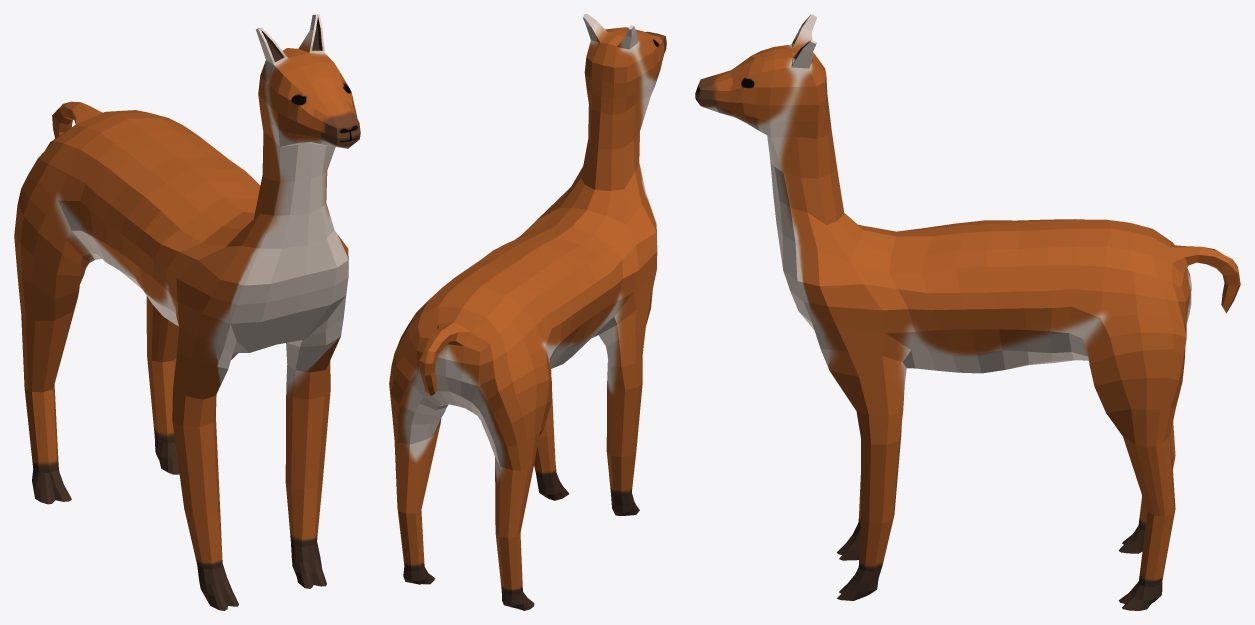
The model's file is guanaco (1).fbx.
3 views of the same model, side by side, from view 1: azimuth 30°, elevation 25°; view 2: azimuth 150°, elevation 25°; view 3: azimuth 270°, elevation 25° (orthographic). The views are drawn at different scales.
Visible parts, largest first — view 1: guanaco; view 2: guanaco; view 3: guanaco.
Part boxes in pixels (x1,y1,x2,y2): guanaco: [14, 14, 360, 610]; guanaco: [389, 14, 666, 610]; guanaco: [695, 14, 1240, 610].
Size of the model in its own units: 50.12 by 159 by 143.
Materials: 1 (1 with a texture image).
